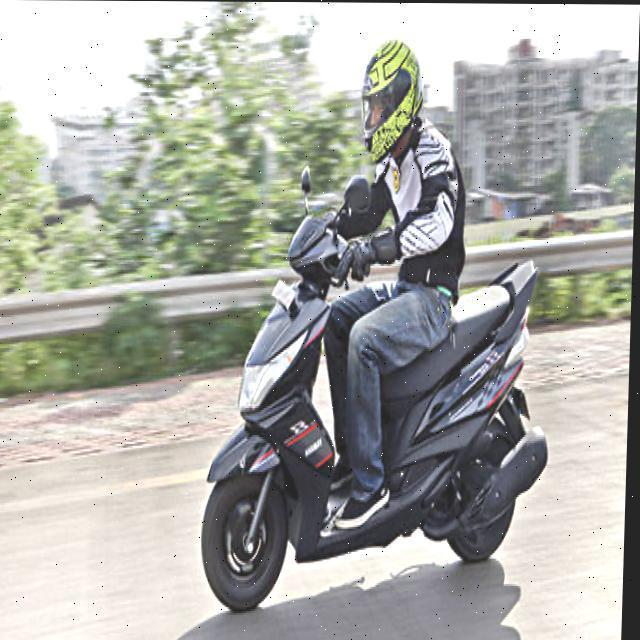Helmet: (352, 22, 432, 175)
